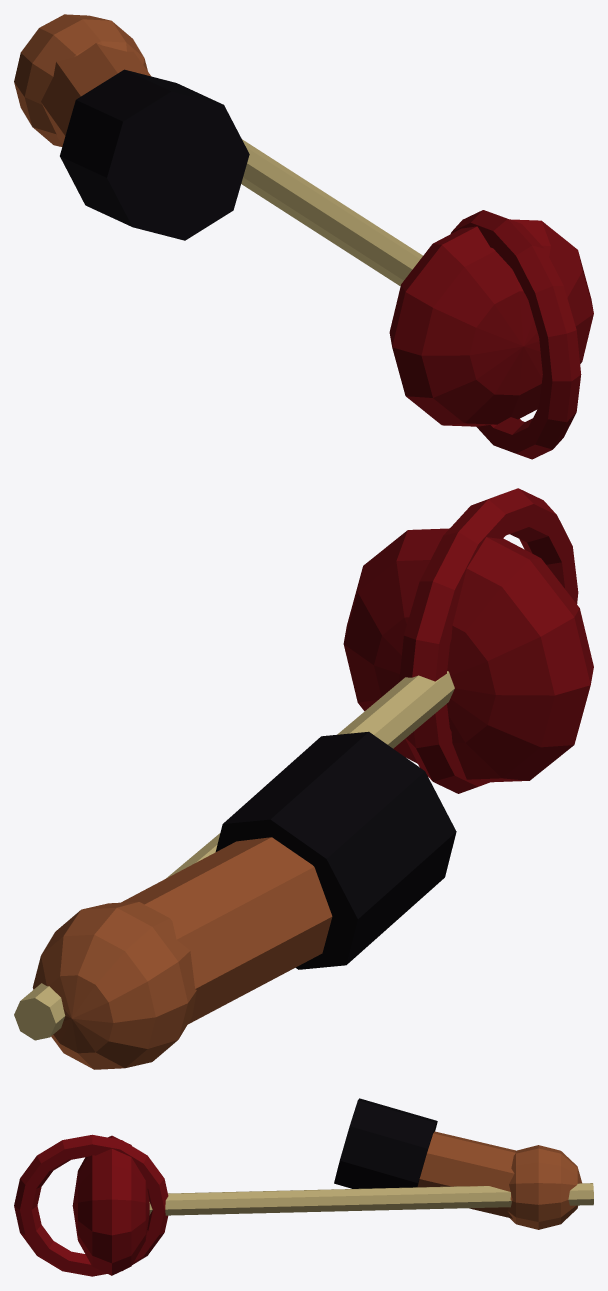
Rendered from Resident5RightArm.obj.
The picture shows the model from 3 angles, top to bottom: view 1: azimuth 30°, elevation 25°; view 2: azimuth 150°, elevation 25°; view 3: azimuth 270°, elevation 25°; orthographic projection. The views are drawn at different scales.
Visible parts, largest first — view 1: Resident5RightArm; view 2: Resident5RightArm; view 3: Resident5RightArm.
Part boxes in pixels (<box>): Resident5RightArm: <box>14,14,593,459</box>; Resident5RightArm: <box>14,488,593,1069</box>; Resident5RightArm: <box>14,1098,593,1276</box>.
Size of the model in its own units: 51.87 by 40 by 148.
